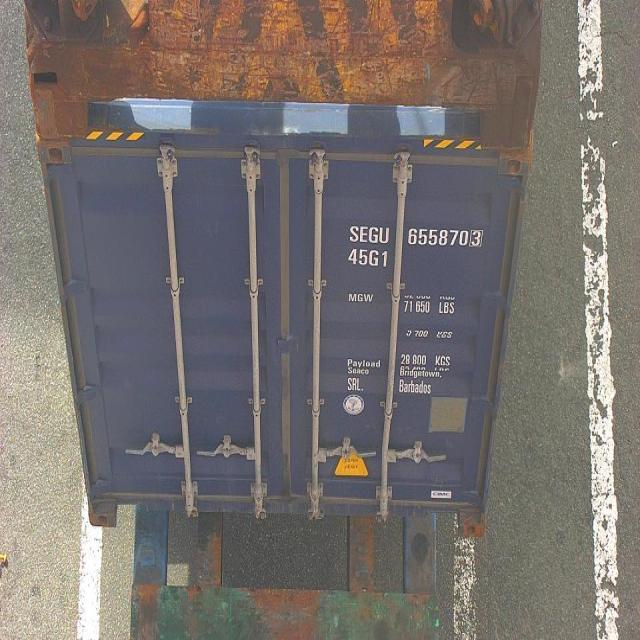ISO: (348, 246, 388, 270)
container_number: (350, 229, 484, 248)
